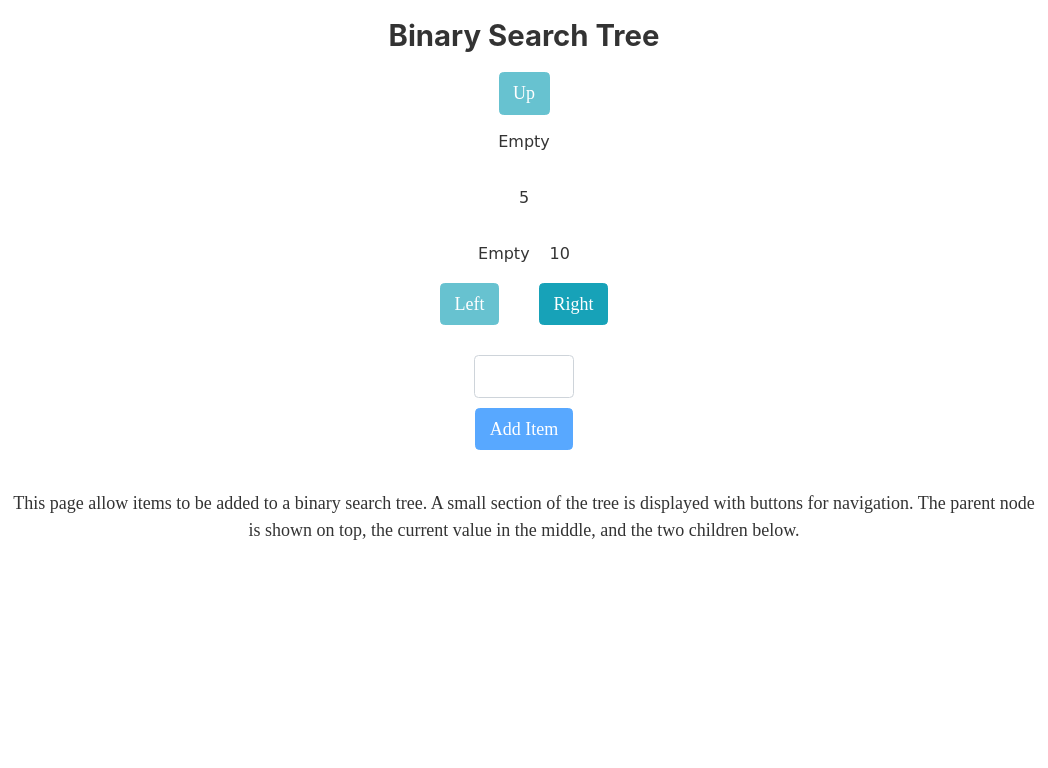
Test case: BinarySearchTree › Add the number 2 and it shows up in the left display
In the number field with class "numberInput": (524, 377) left=474, top=356, right=574, bottom=398, type "2"
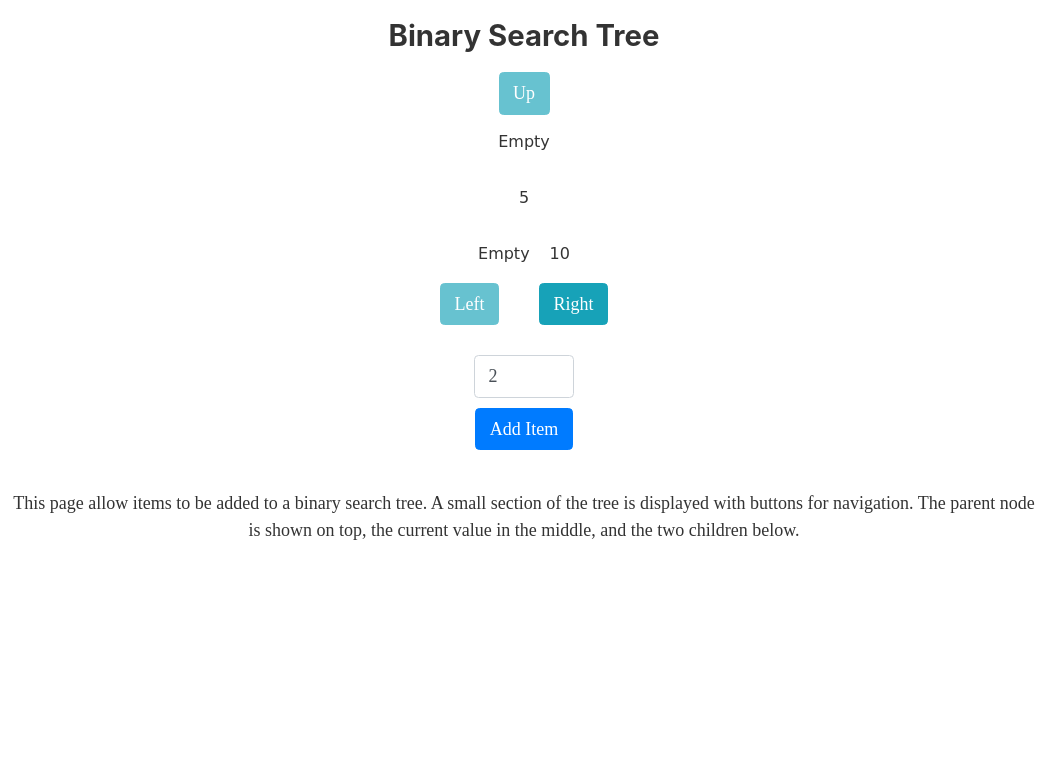
Click the button with id "addItemButton": (524, 429) left=475, top=408, right=573, bottom=450
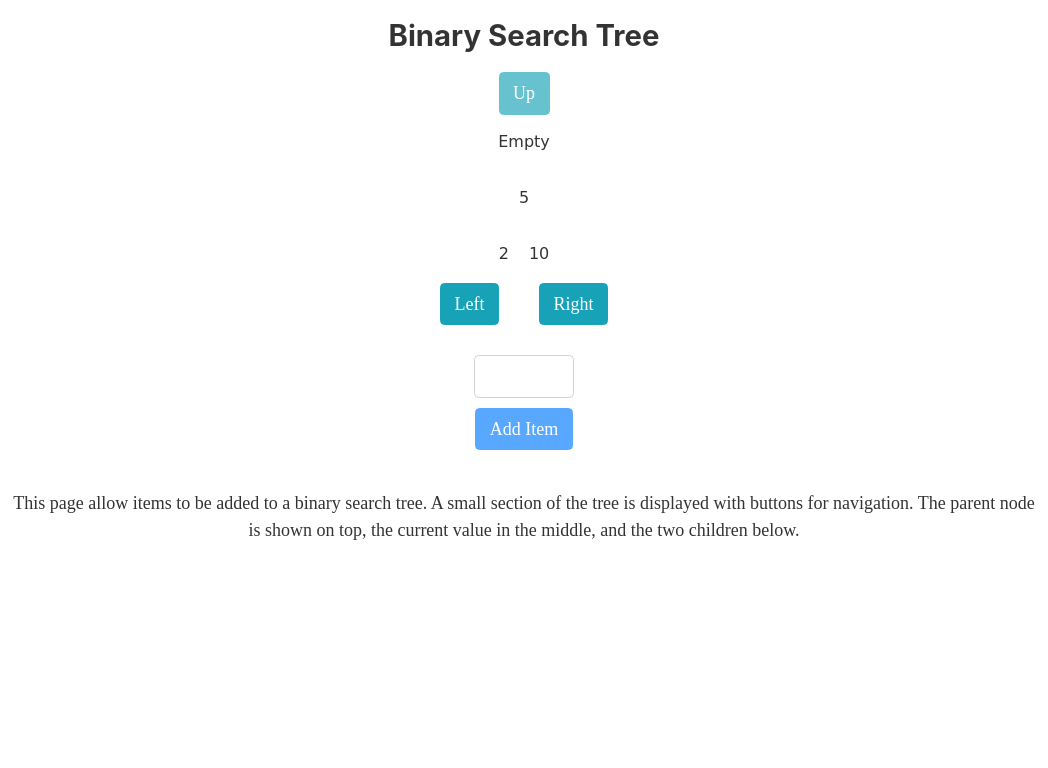
Expected: the text with id "leftDisplay" reads "2", left=499, top=244, right=509, bottom=263
